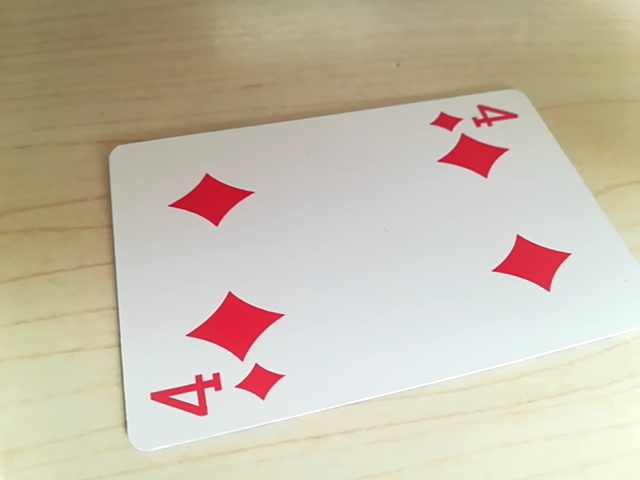fk 4: (146, 361, 286, 431), (428, 100, 523, 136)
